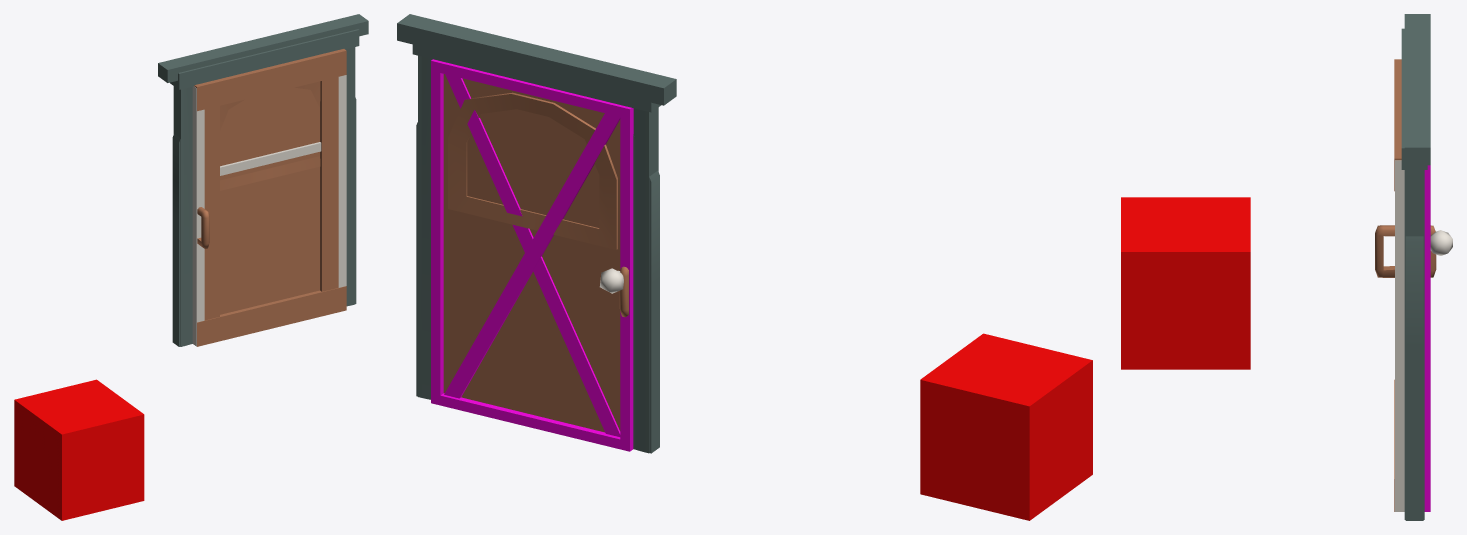
Rendered from Door_Prefab (1).fbx.
3 views of the same model, side by side, from view 1: azimuth 30°, elevation 25°; view 2: azimuth 150°, elevation 25°; view 3: azimuth 270°, elevation 25° (orthographic). The views are drawn at different scales.
Visible parts, largest first — view 1: Door, BoatInteriorExit, BarnDoorFrame, GlassDoor, Door_Frame, ArchDoorFrame, ArchDoor; view 2: BarnDoor, BoatInteriorExit, BarnDoorFrame, ArchDoor, Door_Frame, ArchDoorFrame; view 3: BoatInteriorExit, ArchDoorFrame, GlassDoor, BarnDoorFrame, Door_Frame, BarnDoor, Door, ArchDoor.
Boxes of the visible parts, bbox=[...] form: Door: bbox=[194, 49, 346, 346]; BoatInteriorExit: bbox=[14, 379, 144, 520]; BarnDoorFrame: bbox=[158, 14, 368, 346]; GlassDoor: bbox=[192, 75, 346, 346]; Door_Frame: bbox=[170, 29, 359, 346]; ArchDoorFrame: bbox=[172, 97, 356, 346]; ArchDoor: bbox=[220, 81, 320, 190]; BarnDoor: bbox=[431, 59, 633, 451]; BoatInteriorExit: bbox=[920, 333, 1092, 520]; BarnDoorFrame: bbox=[397, 14, 676, 452]; ArchDoor: bbox=[448, 92, 623, 293]; Door_Frame: bbox=[412, 44, 661, 453]; ArchDoorFrame: bbox=[416, 122, 659, 453]; BoatInteriorExit: bbox=[1121, 197, 1250, 369]; ArchDoorFrame: bbox=[1405, 236, 1423, 520]; GlassDoor: bbox=[1375, 160, 1436, 511]; BarnDoorFrame: bbox=[1404, 14, 1430, 165]; Door_Frame: bbox=[1401, 28, 1427, 519]; BarnDoor: bbox=[1424, 165, 1430, 511]; Door: bbox=[1394, 59, 1401, 511]; ArchDoor: bbox=[1430, 230, 1452, 255].
Bounding box in the file's own units: 4.98 × 3.74 × 2.56.
